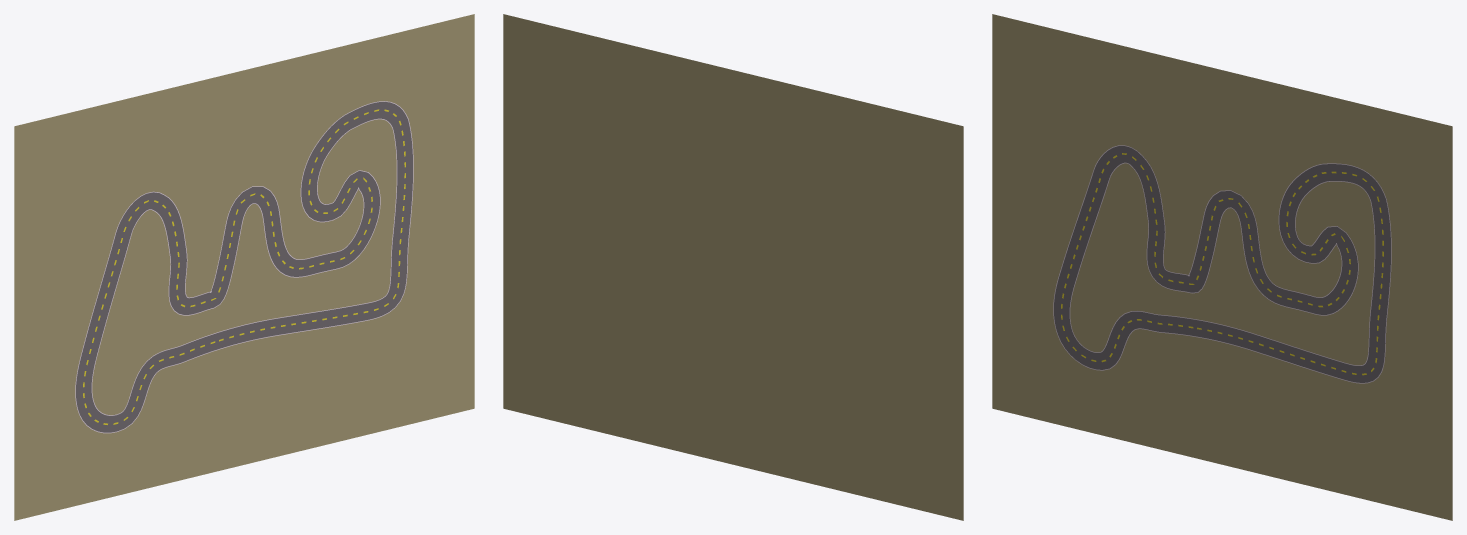
Rendered from track.obj.
3 views of the same model, side by side, from view 1: azimuth 30°, elevation 25°; view 2: azimuth 150°, elevation 25°; view 3: azimuth 330°, elevation 25° (orthographic).
Bounding box in the file's own units: 28.9 × 23.67 × 0.0025.
Materials: 4 (4 with a texture image).
